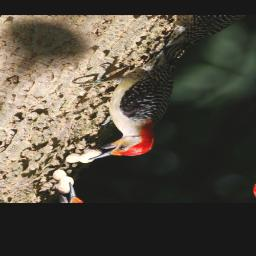Woodpecker: (22, 31, 219, 174)
